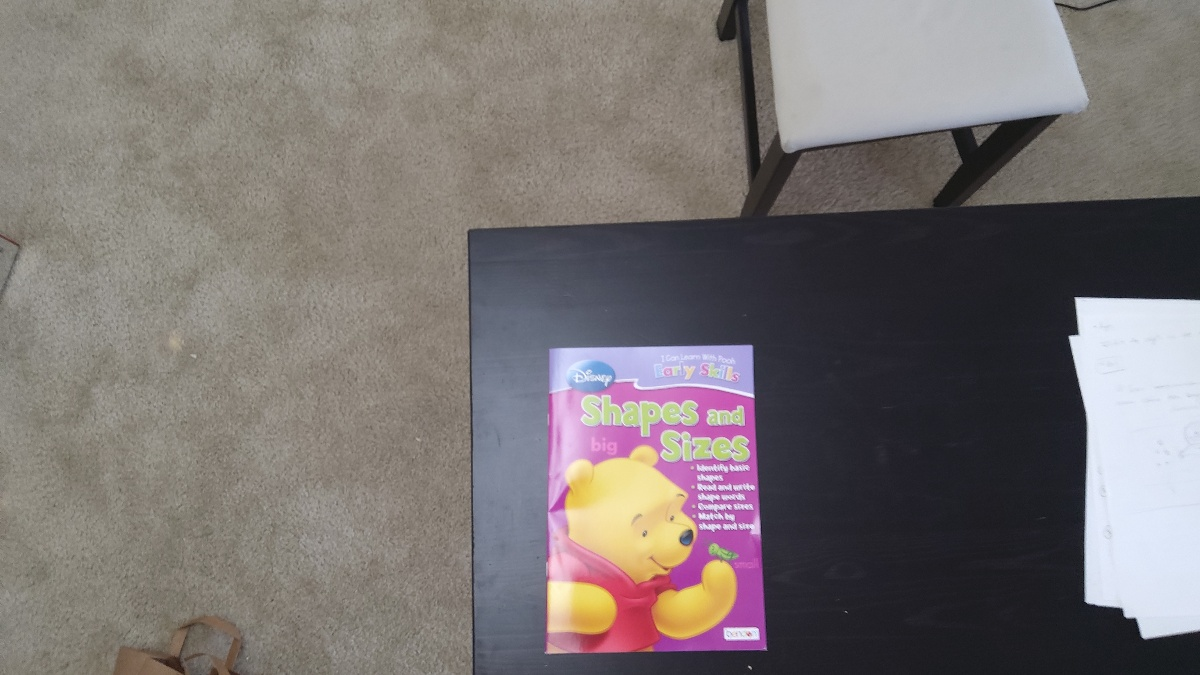book: (549, 347, 753, 646)
